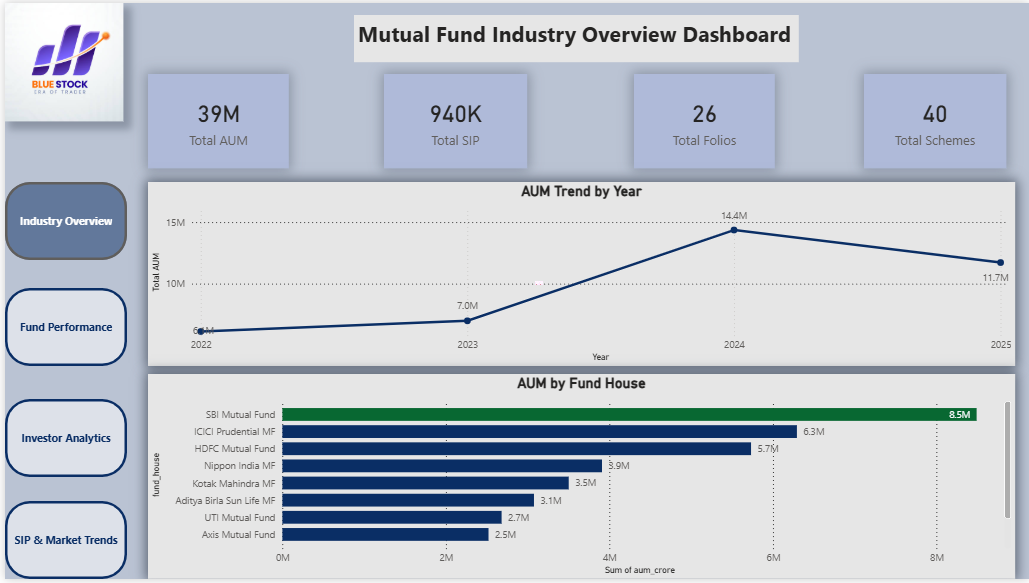

The page's visual inventory and layout, read from the dashboard file:
{"tool":"powerbi","page":{"name":"Industry Overview","canvas":[1280,720],"ordinal":0},"visuals":[{"type":"image","box":[0,0,147.5,147.5],"z":0},{"type":"card","title":"Total AUM ","fields":{"Values":["01_fund_master.Total AUM"]},"box":[178.8,88.8,176.2,117.5],"z":1000},{"type":"card","fields":{"Values":["01_fund_master.Total Folios"]},"box":[786.2,88.8,176.2,117.5],"z":2000},{"type":"card","fields":{"Values":["01_fund_master.Total Schemes"]},"box":[1073.8,88.8,177.5,117.5],"z":3000},{"type":"card","fields":{"Values":["01_fund_master.Total SIP"]},"box":[473.8,88.8,178.8,117.5],"z":4000},{"type":"lineChart","title":"AUM Trend by Year","fields":{"Y":["01_fund_master.Total AUM"],"Category":["DateTable.Year"]},"box":[178.8,223.8,1083.8,230],"z":5000},{"type":"clusteredBarChart","title":"AUM by Fund House","fields":{"Category":["03_aum_by_fund_house.fund_house"],"Y":["Sum(03_aum_by_fund_house.aum_crore)"]},"box":[178.8,463.8,1083.8,256.2],"z":6000},{"type":"actionButton","title":"Home","box":[0,223.8,152.5,97.5],"z":7000},{"type":"actionButton","box":[0,356.2,152.5,97.5],"z":8000},{"type":"actionButton","box":[0,495,152.5,97.5],"z":9000},{"type":"actionButton","box":[0,622.5,152.5,97.5],"z":10000},{"type":"textbox","box":[436.2,15,556.2,58.8],"z":11000}]}

Visuals, with their boxes in screenshot pixels (x1, y1, x2, y2), scaled from the page's 1280x720 canvas onto the 1029x583 screenshot:
image: [left=0, top=0, right=119, bottom=119]
"Total AUM " card: [left=144, top=72, right=285, bottom=167]
card - 01_fund_master.Total Folios: [left=632, top=72, right=774, bottom=167]
card - 01_fund_master.Total Schemes: [left=863, top=72, right=1006, bottom=167]
card - 01_fund_master.Total SIP: [left=381, top=72, right=525, bottom=167]
"AUM Trend by Year" lineChart: [left=144, top=181, right=1015, bottom=367]
"AUM by Fund House" clusteredBarChart: [left=144, top=376, right=1015, bottom=582]
"Home" actionButton: [left=0, top=181, right=123, bottom=260]
actionButton: [left=0, top=288, right=123, bottom=367]
actionButton: [left=0, top=401, right=123, bottom=480]
actionButton: [left=0, top=504, right=123, bottom=582]
textbox: [left=351, top=12, right=798, bottom=60]
